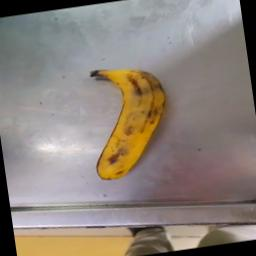Banana Overripe: (71, 50, 185, 187)
